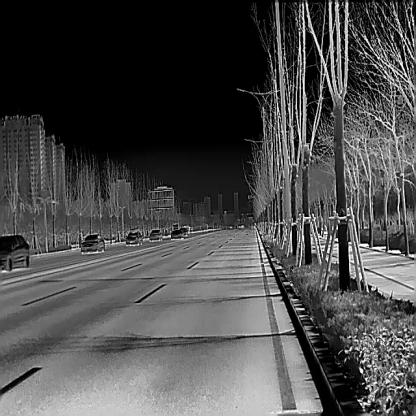car: (0, 233, 30, 270), (79, 233, 105, 255), (125, 230, 143, 246), (148, 228, 163, 242), (170, 229, 182, 240), (179, 227, 188, 237)
truck: (171, 223, 179, 230)
